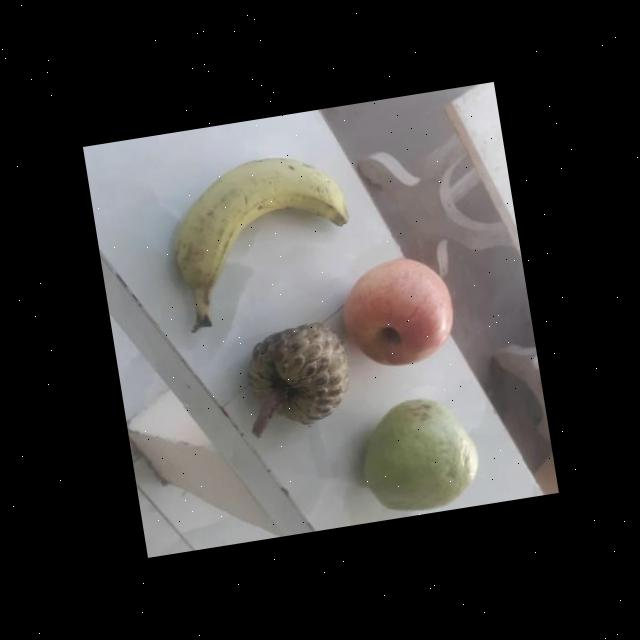Sakya fruit: (238, 319, 358, 441)
apple: (338, 248, 459, 377)
banana: (160, 150, 362, 324)
guava: (356, 392, 484, 522)
